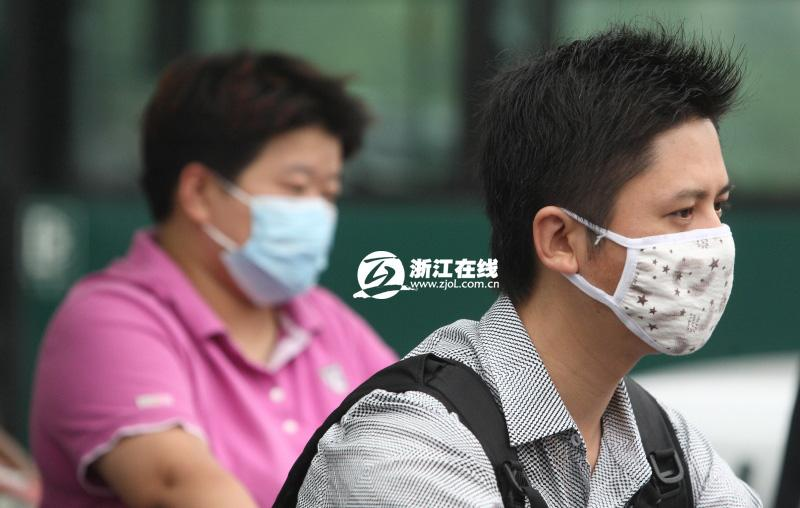OK: (554, 169, 736, 351), (183, 159, 349, 302)
